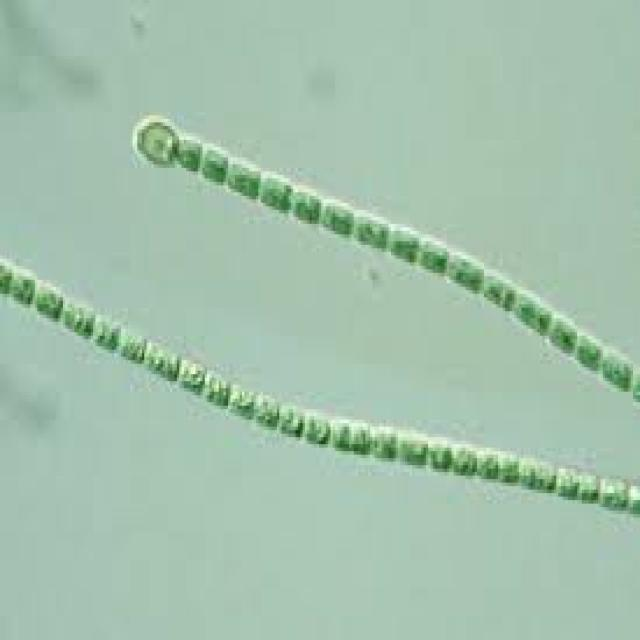Blue Green Algae: (449, 245, 484, 301), (352, 206, 386, 259), (144, 339, 179, 385), (258, 168, 291, 213), (321, 192, 352, 238), (386, 220, 417, 266), (519, 455, 556, 493), (514, 287, 545, 332), (600, 343, 631, 388), (419, 231, 447, 280), (291, 182, 321, 227), (226, 158, 258, 200), (482, 270, 514, 312), (63, 298, 95, 340), (198, 143, 226, 189), (575, 325, 603, 371), (7, 262, 35, 308), (91, 311, 121, 353), (172, 133, 200, 175), (35, 280, 63, 322), (228, 381, 256, 423), (277, 402, 307, 441), (598, 472, 628, 511), (549, 311, 573, 357), (118, 325, 146, 364), (177, 353, 205, 392), (202, 367, 230, 406), (370, 423, 396, 465), (396, 430, 426, 465), (452, 441, 479, 479), (307, 406, 331, 448), (556, 465, 580, 504), (428, 437, 454, 472), (477, 444, 500, 483), (256, 392, 282, 426), (577, 465, 598, 504), (498, 448, 519, 486), (331, 416, 352, 451), (349, 416, 370, 451)
